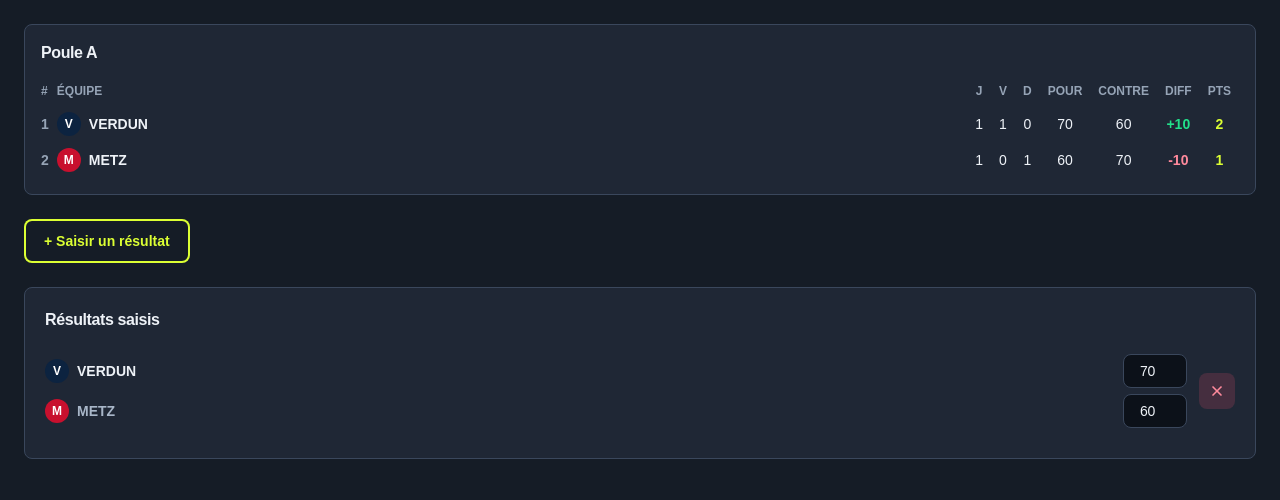
Test: Standings › does not change the saved score when the field is cleared and then left
Clear the 1st number field named "score verdun" at x=1155, y=371, box x1=1123 y1=354 x2=1187 y2=388
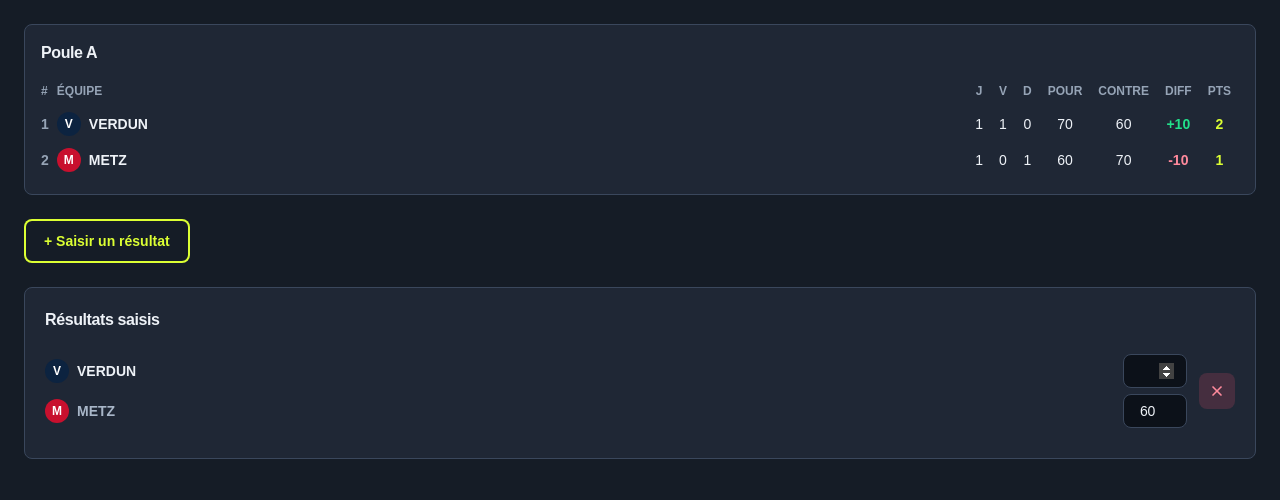
Click the element that starts with "Poule A" at x=640, y=242, box x1=0 y1=0 x2=1279 y2=483
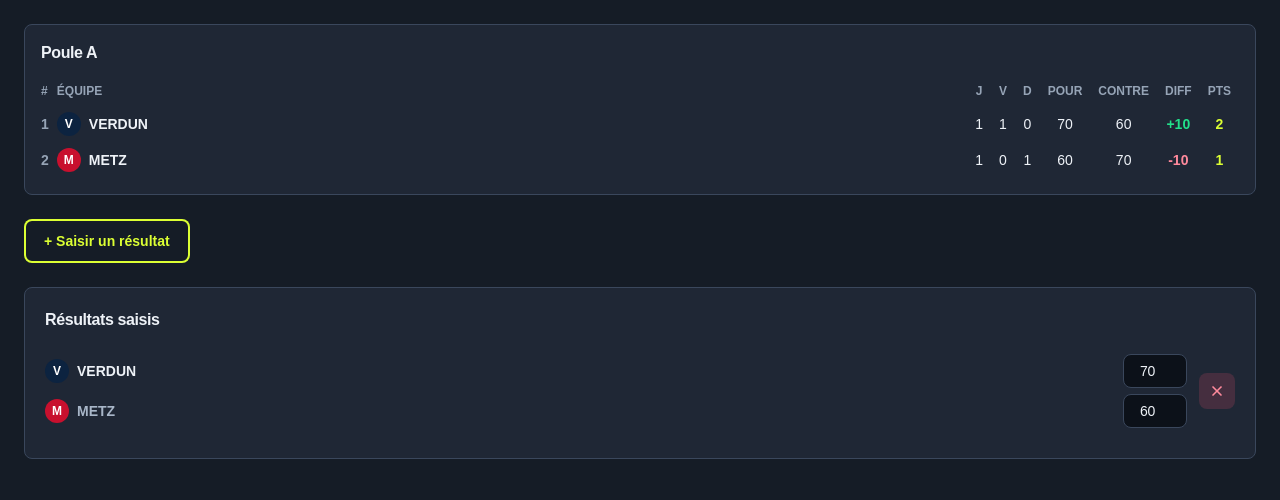
Expected: the 1st number field named "score verdun" holds "70", x1=1123 y1=354 x2=1187 y2=388
